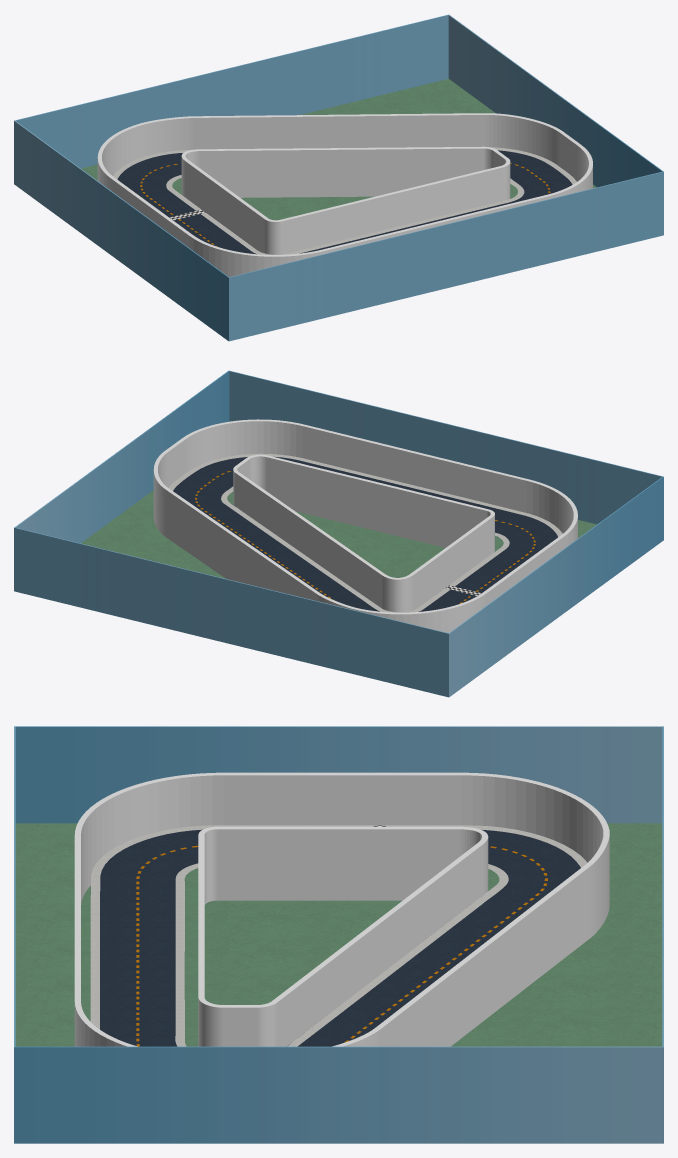
3 renders of one model, top to bottom at view 1: azimuth 30°, elevation 25°; view 2: azimuth 150°, elevation 25°; view 3: azimuth 270°, elevation 25°, orthographic. The views are drawn at different scales.
Parts seen in each view (by area): view 1: wall, inner_walls, outer_walls, road, field, il, ol; view 2: wall, outer_walls, inner_walls, road, field, il, ol; view 3: wall, field, outer_walls, inner_walls, road, il, ol, cl.
Boxes of the visible parts, x1,y1,x2,y2 form: wall: [14, 14, 663, 341]; inner_walls: [181, 146, 510, 254]; outer_walls: [97, 113, 592, 277]; road: [117, 150, 572, 254]; field: [81, 78, 596, 220]; il: [166, 175, 524, 254]; ol: [113, 147, 576, 184]; wall: [14, 370, 663, 697]; outer_walls: [153, 419, 577, 633]; inner_walls: [233, 454, 494, 612]; road: [173, 456, 557, 611]; field: [81, 490, 596, 578]; il: [221, 486, 509, 612]; ol: [169, 453, 562, 536]; wall: [14, 726, 663, 1143]; field: [15, 823, 662, 1046]; outer_walls: [74, 772, 609, 1046]; inner_walls: [198, 826, 488, 1046]; road: [100, 829, 580, 1046]; il: [175, 863, 508, 1046]; ol: [90, 825, 587, 1029]; cl: [136, 845, 547, 1046].
Bounding box in the file's own units: 46 × 39.34 × 6.42.
Materials: 7 (7 with a texture image).
